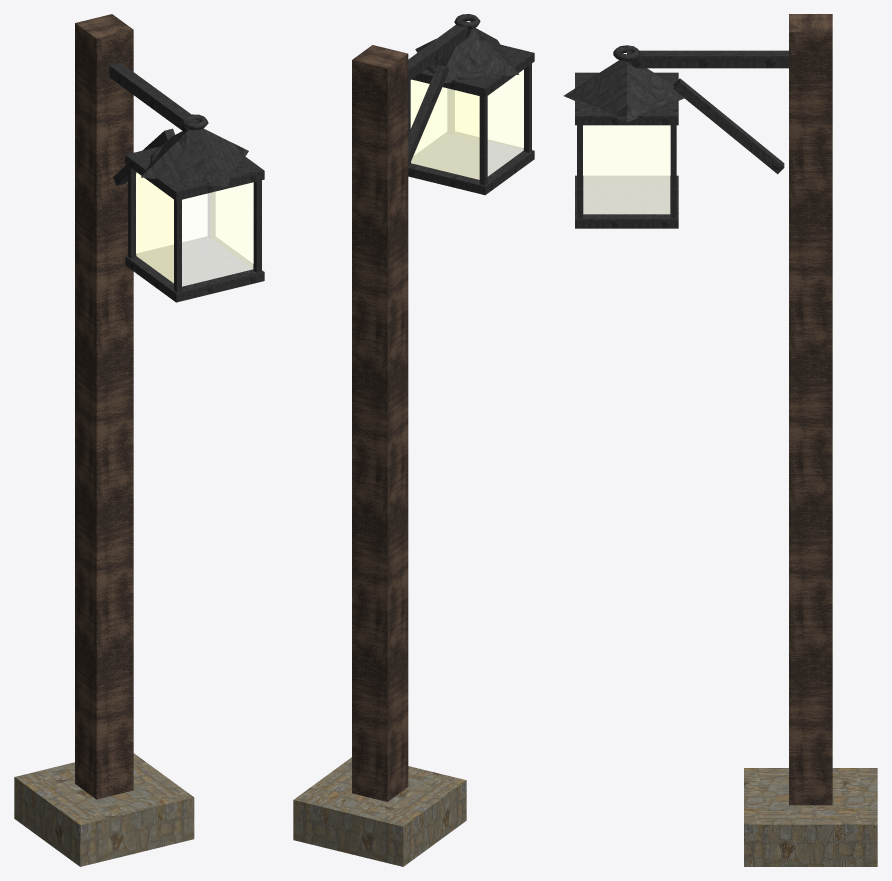
File: prop_lamppost_v2.glb
3 renders of one model, left to right at view 1: azimuth 30°, elevation 25°; view 2: azimuth 150°, elevation 25°; view 3: azimuth 270°, elevation 25°, orthographic. The views are drawn at different scales.
Parts seen in each view (by area): view 1: prop_lamppost_v2; view 2: prop_lamppost_v2; view 3: prop_lamppost_v2.
Boxes of the visible parts, <box> form: prop_lamppost_v2: <box>14,14,264,866</box>; prop_lamppost_v2: <box>293,14,534,866</box>; prop_lamppost_v2: <box>563,14,877,866</box>.
Bounding box in the file's own units: 0.4 × 2.69 × 0.94.
4 materials, 3 textured.
